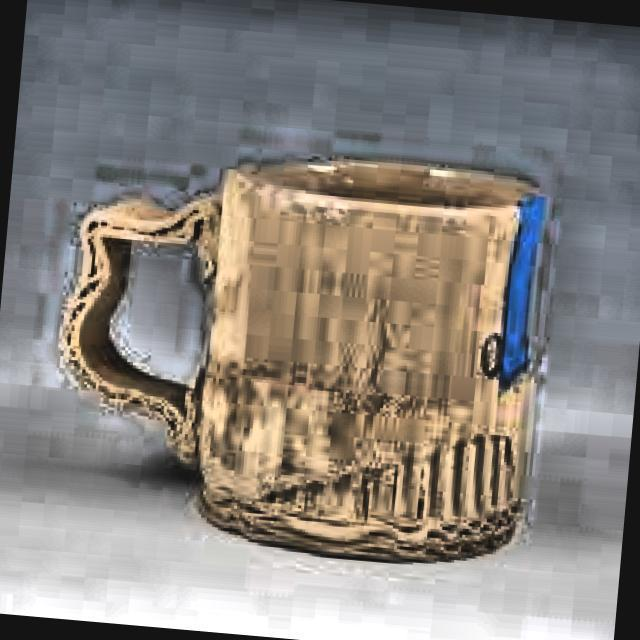cardboard: (45, 129, 558, 572)
